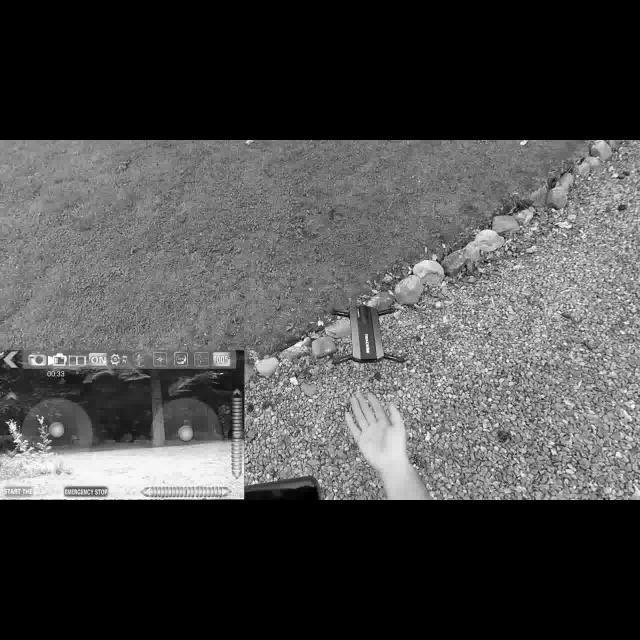Drons: (313, 294, 436, 378)
